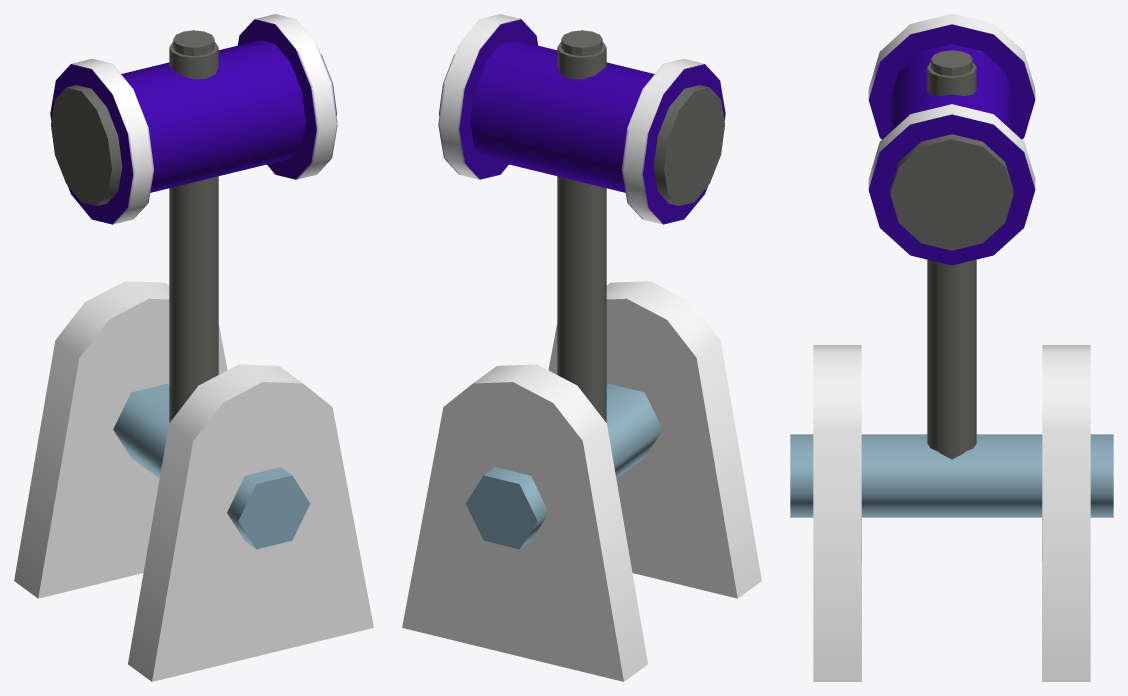
Rendered from hammer platform (1).fbx.
3 renders of one model, left to right at view 1: azimuth 30°, elevation 25°; view 2: azimuth 150°, elevation 25°; view 3: azimuth 270°, elevation 25°, orthographic.
Parts seen in each view (by area): view 1: platform, hammer; view 2: platform, hammer; view 3: platform, hammer.
Part boxes in pixels (x1,y1,x2,y2): platform: [14, 281, 373, 681]; hammer: [50, 14, 337, 422]; platform: [402, 281, 761, 681]; hammer: [438, 14, 725, 422]; platform: [790, 345, 1113, 681]; hammer: [868, 14, 1035, 459].
Bounding box in the file's own units: 62.49 × 150 × 77.27.
1 material, 1 textured.
